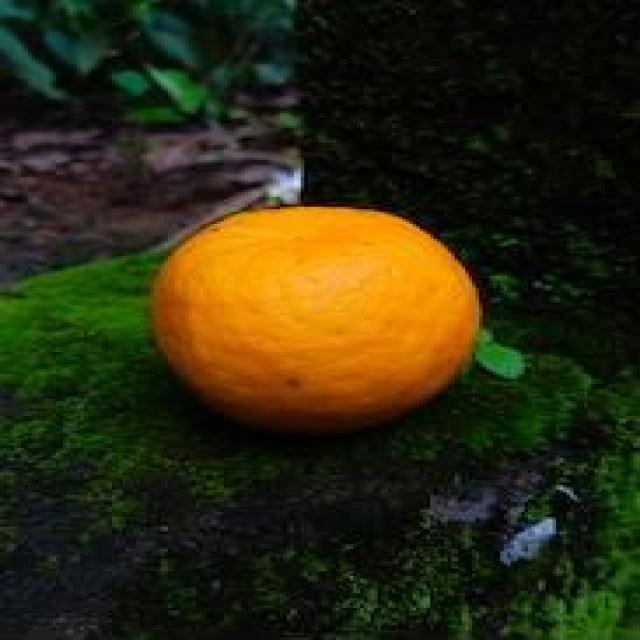Orange: (148, 202, 490, 438)
